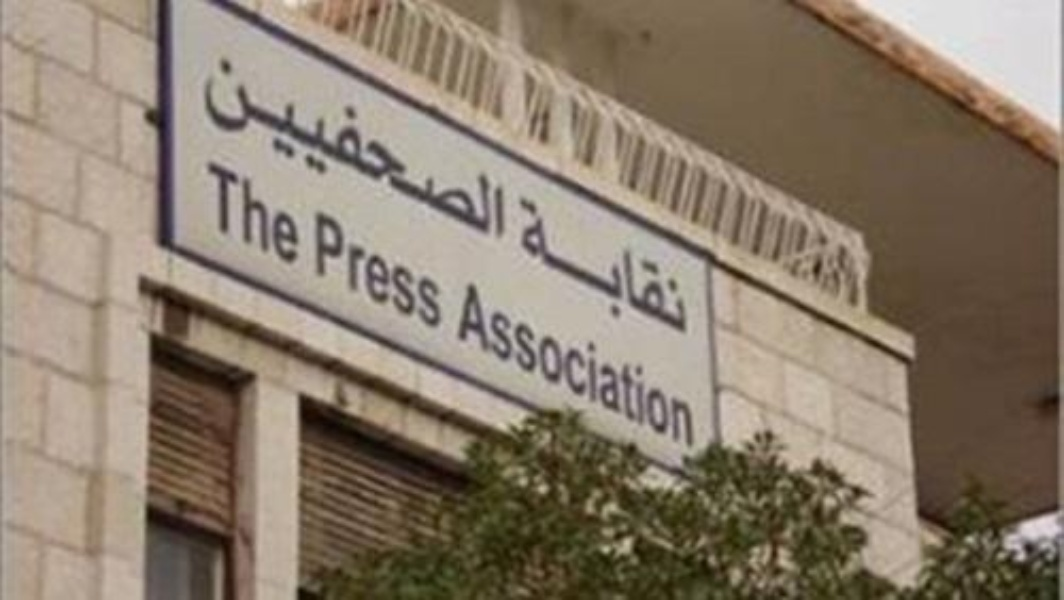text: (209, 43, 224, 247), (225, 43, 240, 247), (241, 43, 256, 247), (257, 43, 272, 247), (273, 43, 288, 247), (289, 43, 304, 247), (305, 43, 320, 247), (321, 43, 336, 247), (337, 43, 352, 247), (353, 43, 368, 247), (369, 43, 384, 247), (385, 43, 400, 247), (401, 43, 416, 247), (417, 43, 432, 247), (433, 43, 448, 247), (449, 43, 464, 247), (465, 43, 480, 247), (481, 43, 496, 247), (465, 275, 480, 454), (481, 275, 496, 454), (497, 275, 512, 454), (513, 275, 528, 454), (529, 275, 544, 454), (545, 275, 560, 454), (561, 275, 576, 454), (577, 275, 592, 454), (593, 275, 608, 454), (609, 275, 624, 454), (625, 275, 640, 454), (641, 275, 656, 454), (657, 275, 672, 454), (673, 275, 688, 454), (529, 188, 544, 356), (545, 188, 560, 356), (561, 188, 576, 356), (577, 188, 592, 356), (593, 188, 608, 356), (609, 188, 624, 356), (625, 188, 640, 356), (641, 188, 656, 356), (657, 188, 672, 356), (673, 188, 688, 356), (497, 43, 509, 247), (515, 188, 528, 356), (321, 203, 336, 335), (337, 203, 352, 335), (353, 203, 368, 335), (369, 203, 384, 335), (385, 203, 400, 335), (401, 203, 416, 335), (417, 203, 432, 335), (209, 154, 224, 273), (225, 154, 240, 273), (241, 154, 256, 273), (257, 154, 272, 273), (273, 154, 288, 273), (289, 154, 304, 273), (689, 275, 698, 454), (433, 203, 445, 335), (458, 275, 464, 454), (313, 203, 320, 335), (205, 43, 208, 247), (203, 154, 208, 273), (689, 188, 692, 356), (305, 154, 309, 273)
